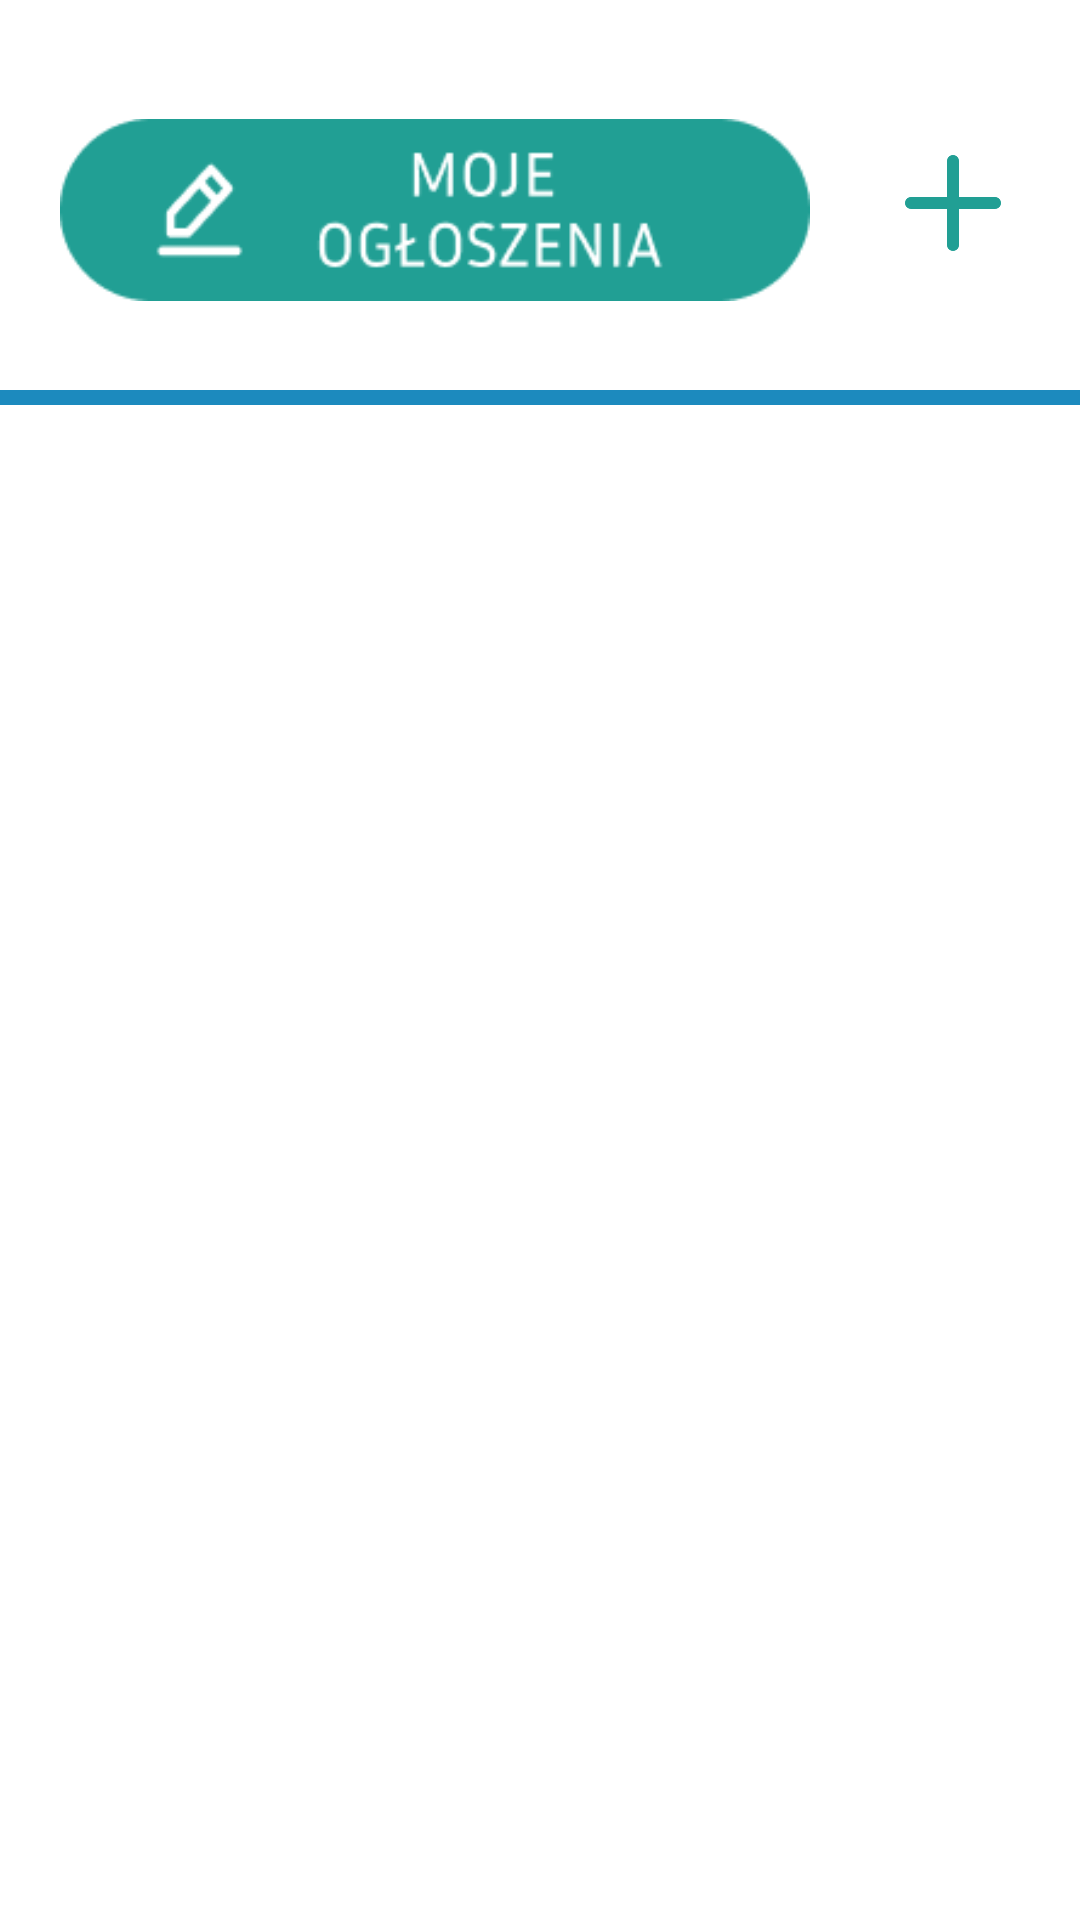

Named icons in this screenshot (1080*1920) and their centers, (x=x, y=y):
plus: (x=953, y=203)
